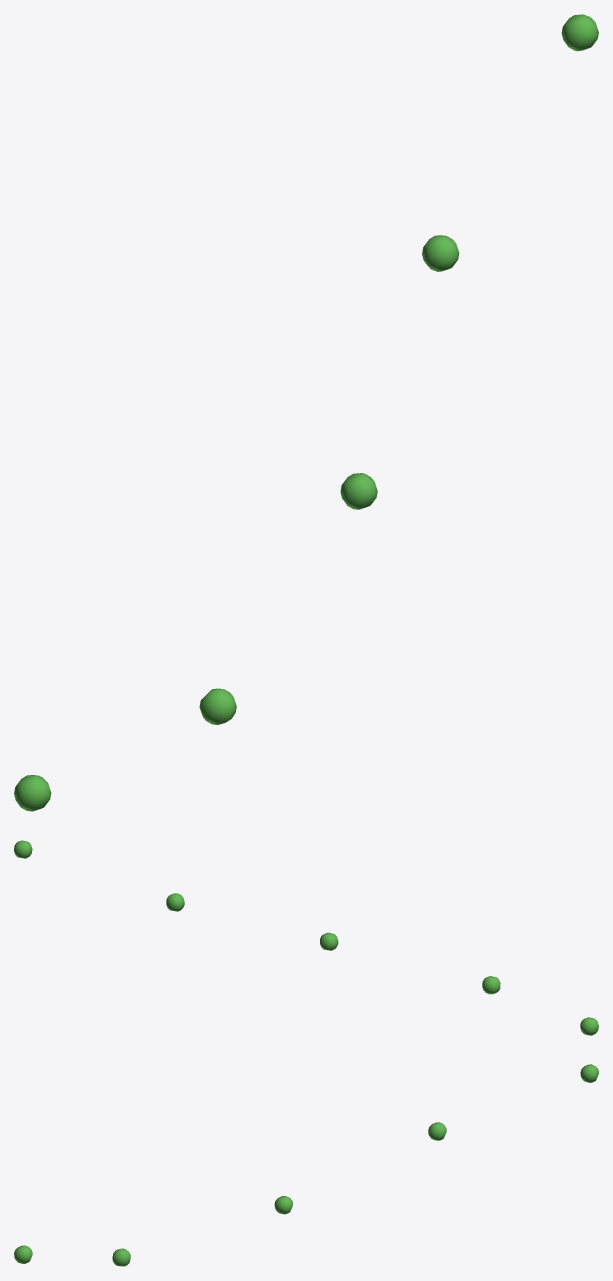
Rendered from linfatico-inferior-pancreatic-nodes.glb.
The picture shows the model from 3 angles, top to bottom: view 1: azimuth 30°, elevation 25°; view 2: azimuth 150°, elevation 25°; view 3: azimuth 330°, elevation 25°; orthographic projection. The views are drawn at different scales.
Visible parts, largest first — view 1: Inferior pancreatic nodes; view 2: Inferior pancreatic nodes; view 3: Inferior pancreatic nodes.
Boxes of the visible parts, x1,y1,x2,y2 form: Inferior pancreatic nodes: (14,14,598,811); Inferior pancreatic nodes: (14,840,598,1035); Inferior pancreatic nodes: (14,1064,598,1266).
Bounding box in the file's own units: 0.0692 × 0.0295 × 0.0417.
